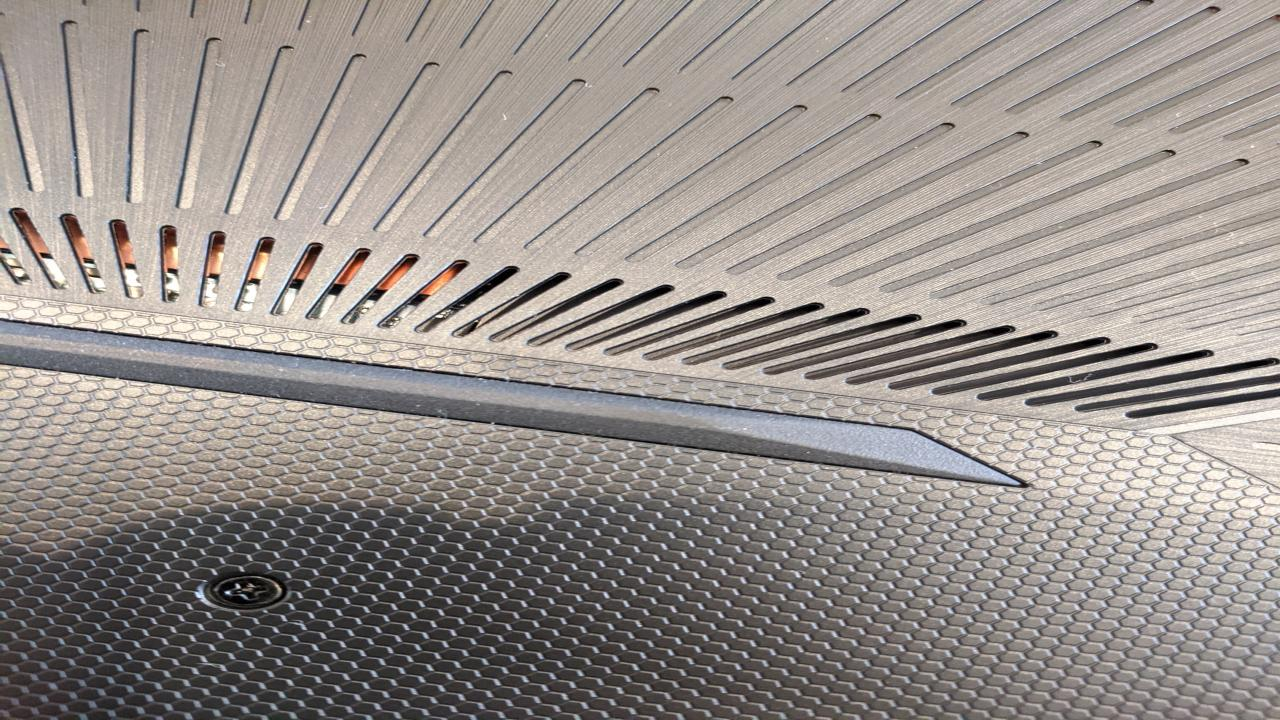CRS: (212, 576, 285, 608)
